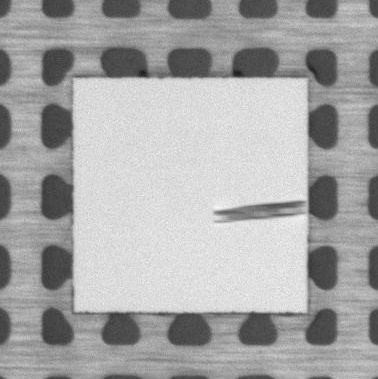DIE_INK: (212, 200, 305, 223)
